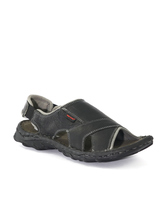shoes: (8, 93, 155, 165)
